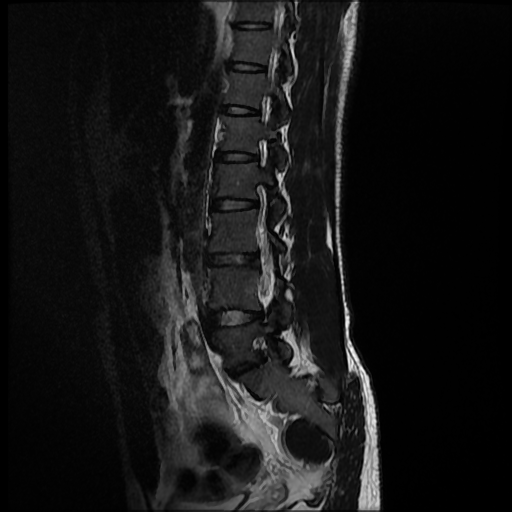LFS0: (246, 327, 278, 371)
